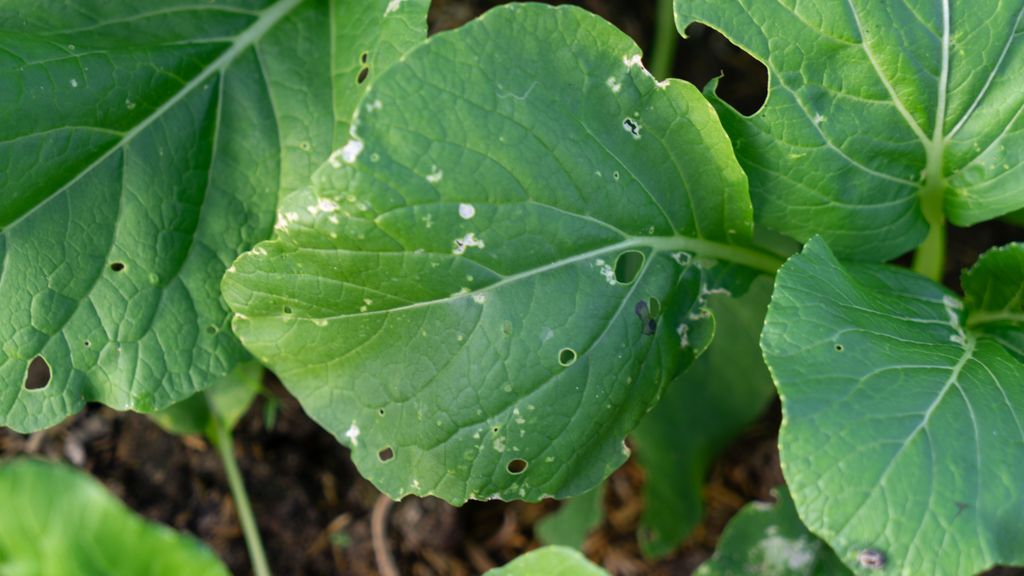Canker: (274, 120, 386, 242), (416, 153, 496, 263), (932, 290, 978, 351)
